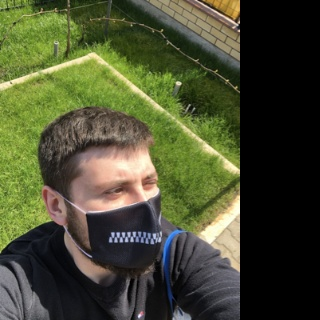with_mask: (80, 162, 164, 277)
